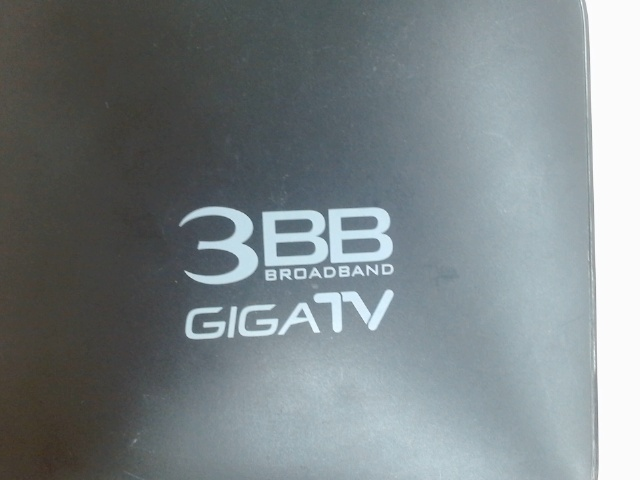AG_3BB: (170, 194, 401, 348)
